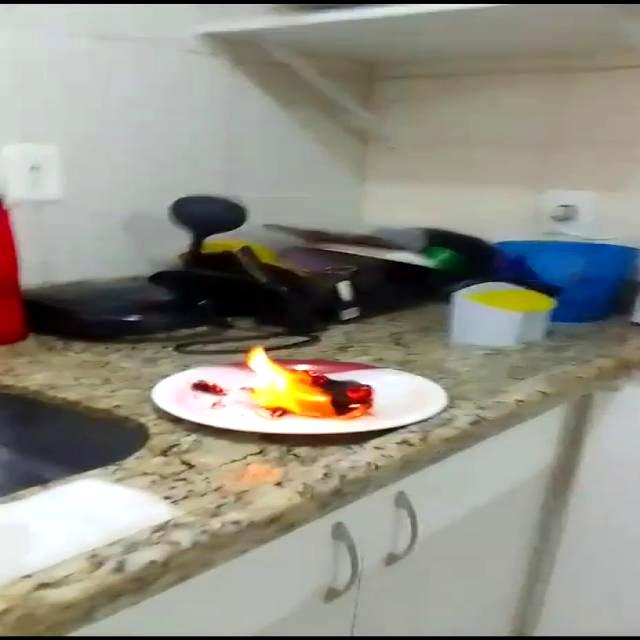fire: (242, 346, 378, 426)
